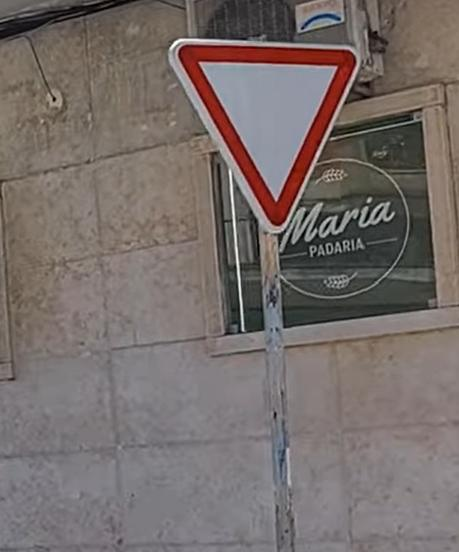cedencia de passagem: (154, 24, 366, 232)
